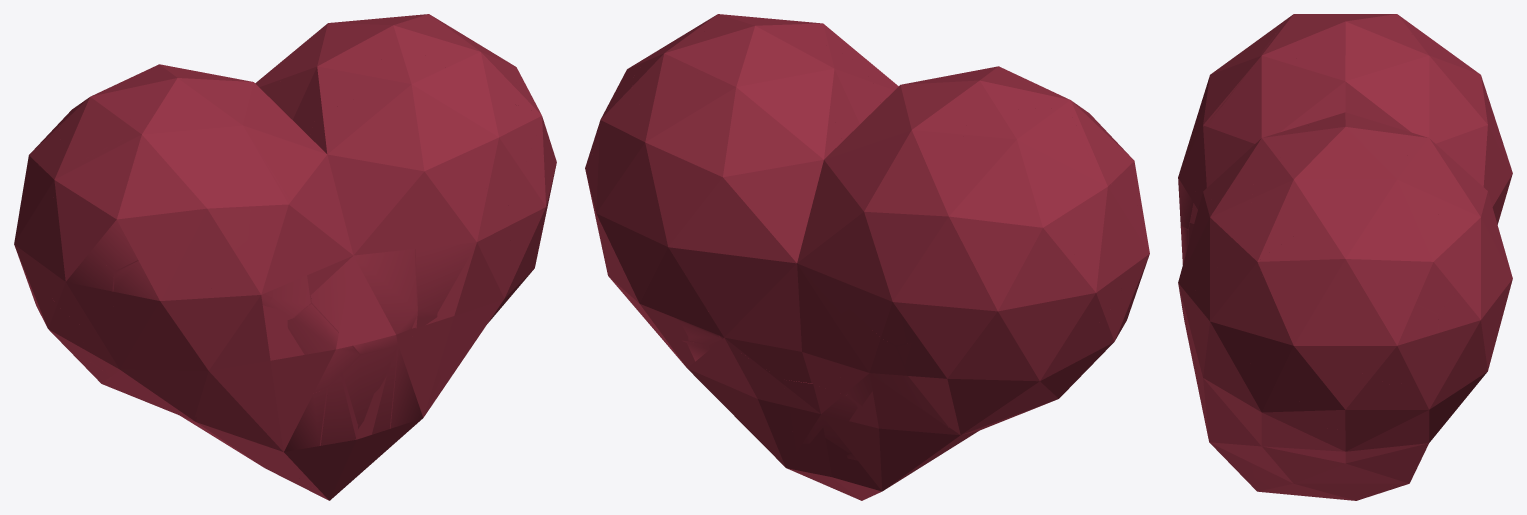
The model's file is heart.glb.
The picture shows the model from 3 angles, left to right: view 1: azimuth 30°, elevation 25°; view 2: azimuth 150°, elevation 25°; view 3: azimuth 270°, elevation 25°; orthographic projection. The views are drawn at different scales.
Parts seen in each view (by area): view 1: origin, Heart_Full_cell.028, Heart_Full_cell.053, Heart_Full_cell.035, Heart_Full_cell, Heart_Full_cell.060, Heart_Full_cell.004, Heart_Full_cell.027, Heart_Full_cell.034, Heart_Full_cell.037, Heart_Full_cell.036, Heart_Full_cell.051 (+17 smaller); view 2: origin, Heart_Full_cell.055, Heart_Full_cell.023, Heart_Full_cell.057, Heart_Full_cell.049, Heart_Full_cell.015, Heart_Full_cell.017, Heart_Full_cell.029, Heart_Full_cell.044, Heart_Full_cell.043, Heart_Full_cell.033, Heart_Full_cell.019 (+16 smaller); view 3: origin, Heart_Full_cell.012, Heart_Full_cell.010, Heart_Full_cell.006, Heart_Full_cell.021, Heart_Full_cell.040, Heart_Full_cell.059, Heart_Full_cell.024, Heart_Full_cell.027, Heart_Full_cell.046, Heart_Full_cell.020, Heart_Full_cell.025 (+15 smaller).
Boxes of the visible parts, x1,y1,x2,y2 form: origin: (14,18,556,500); Heart_Full_cell.028: (310,198,416,354); Heart_Full_cell.053: (156,132,288,266); Heart_Full_cell.035: (113,246,210,342); Heart_Full_cell: (53,135,164,271); Heart_Full_cell.060: (415,188,510,331); Heart_Full_cell.004: (40,196,114,325); Heart_Full_cell.027: (447,91,541,193); Heart_Full_cell.034: (294,346,397,489); Heart_Full_cell.037: (210,234,310,319); Heart_Full_cell.036: (229,389,326,477); Heart_Full_cell.051: (370,127,462,233); origin: (589,18,1149,500); Heart_Full_cell.055: (961,109,1087,189); Heart_Full_cell.023: (719,299,847,394); Heart_Full_cell.057: (1004,179,1089,298); Heart_Full_cell.049: (1012,203,1122,337); Heart_Full_cell.015: (833,309,949,428); Heart_Full_cell.017: (652,199,734,314); Heart_Full_cell.029: (708,339,794,444); Heart_Full_cell.044: (846,255,919,345); Heart_Full_cell.043: (696,132,778,241); Heart_Full_cell.033: (690,61,796,133); Heart_Full_cell.019: (783,379,857,453); origin: (1178,14,1509,500); Heart_Full_cell.012: (1252,151,1344,260); Heart_Full_cell.010: (1282,339,1395,430); Heart_Full_cell.006: (1259,206,1388,337); Heart_Full_cell.021: (1346,151,1437,229); Heart_Full_cell.040: (1388,216,1461,313); Heart_Full_cell.059: (1318,293,1438,385); Heart_Full_cell.024: (1194,264,1289,367); Heart_Full_cell.027: (1194,179,1256,271); Heart_Full_cell.046: (1251,463,1393,493); Heart_Full_cell.020: (1230,355,1315,433); Heart_Full_cell.025: (1296,426,1398,457).
Size of the model in its own units: 0.9714 by 0.8057 by 0.5728.
